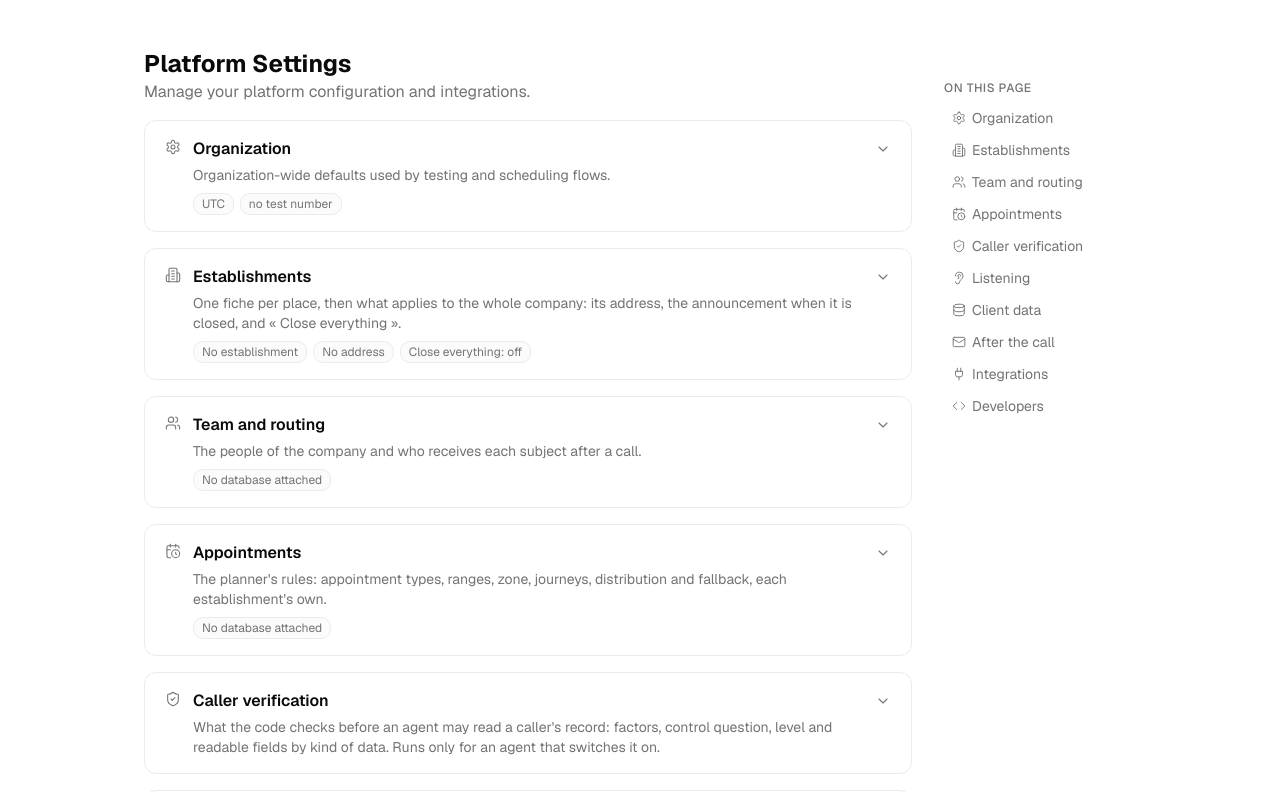
Scenario: [.mark] business address on the Platform Settings page › is on the page, in the Business theme
What coordinates should you click on to do the following:
click the button that starts with "Establishments"
I would click on:
 (528, 314)
Its box is [145,249,911,379].
(page scrolled)
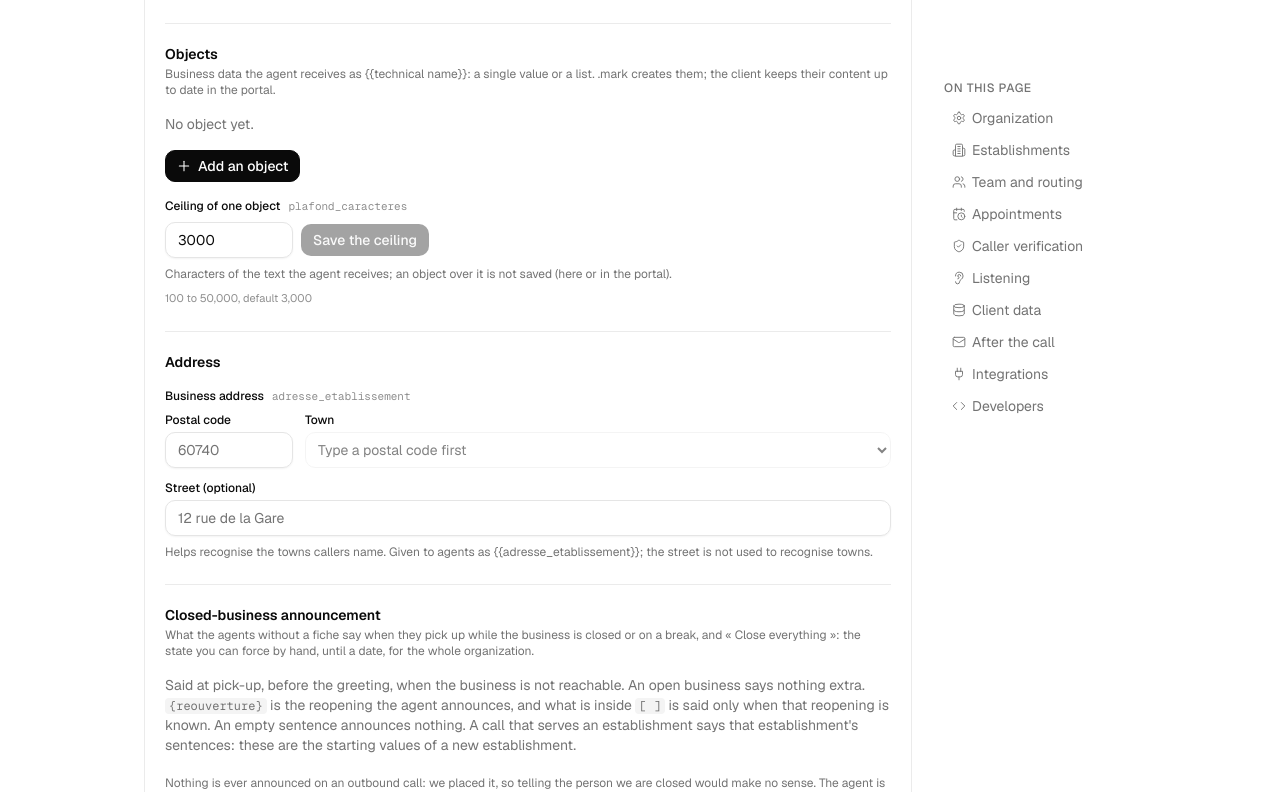
Check: the text "Business address" is shown, box [165,388,264,404]
Check: the field with id "settings-business-address-code-postal" is shown, box [165,432,293,468]
Check: the text "Helps recognise the towns callers name" is shown, box [165,544,873,560]
